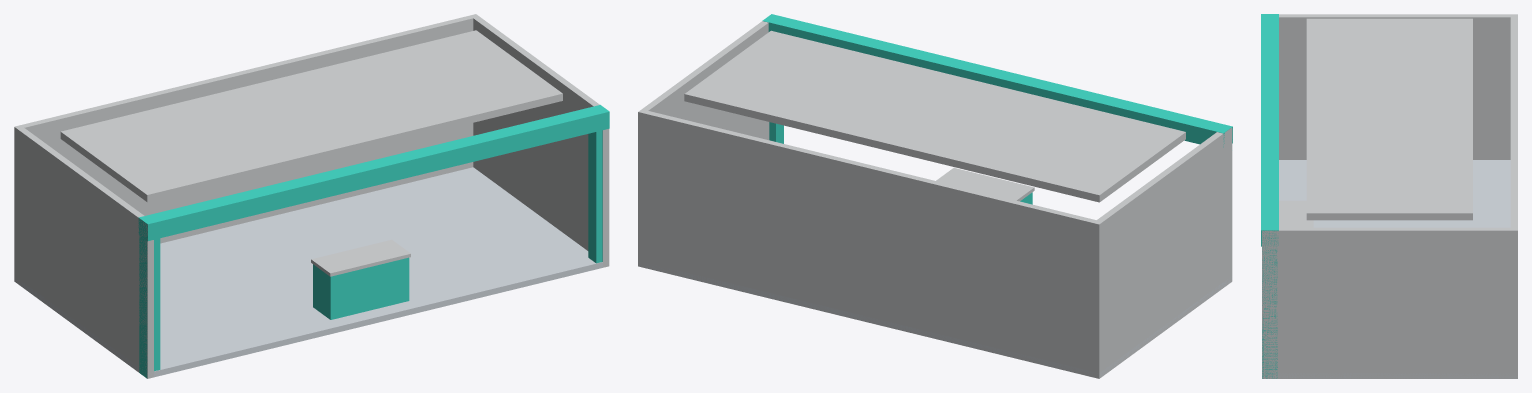
3 views of the same model, side by side, from view 1: azimuth 30°, elevation 25°; view 2: azimuth 150°, elevation 25°; view 3: azimuth 270°, elevation 25° (orthographic). The views are drawn at different scales.
Parts seen in each view (by area): view 1: Exhibition Booth Concept; view 2: Exhibition Booth Concept; view 3: Exhibition Booth Concept.
Part boxes in pixels (x1,y1,x2,y2): Exhibition Booth Concept: (14, 14, 609, 378); Exhibition Booth Concept: (638, 14, 1232, 378); Exhibition Booth Concept: (1261, 14, 1517, 378).
Size of the model in its own units: 10 by 3.34 by 5.02.
